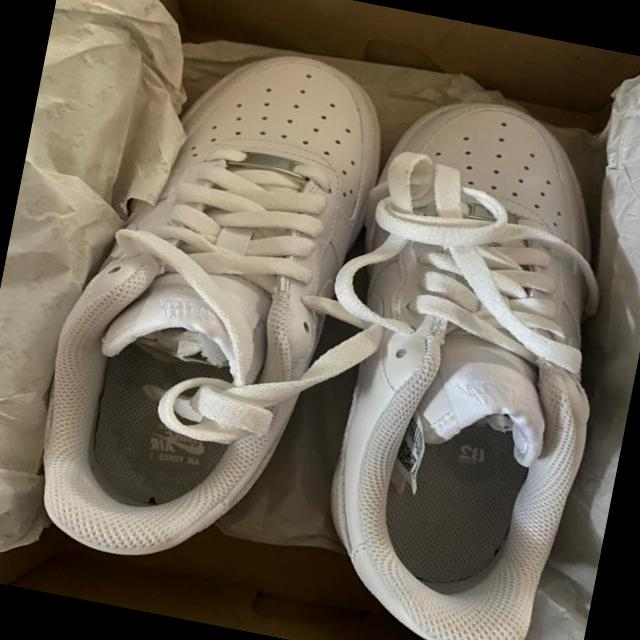nike_original_airforce: (16, 21, 398, 596), (278, 77, 640, 640)
